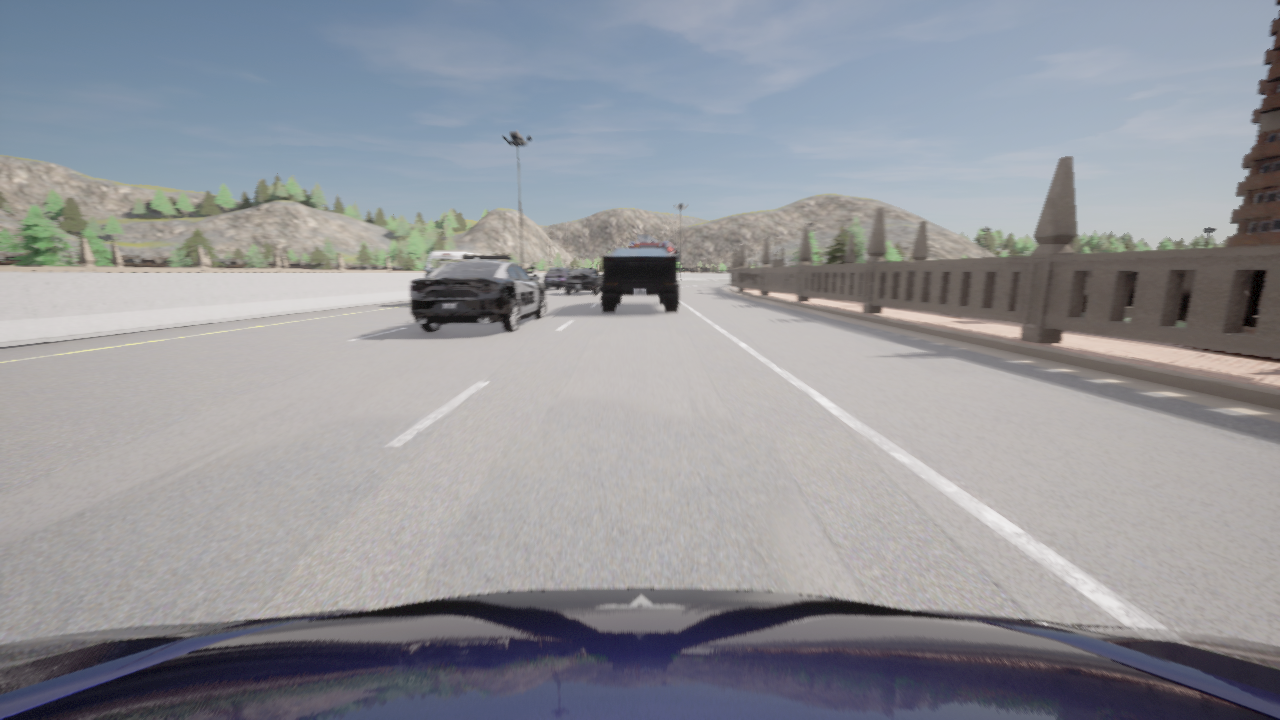cyclist: (0, 588, 1279, 719), (410, 254, 545, 332), (601, 248, 678, 311), (425, 250, 480, 276), (629, 235, 679, 261), (565, 268, 602, 294), (543, 267, 570, 289)
